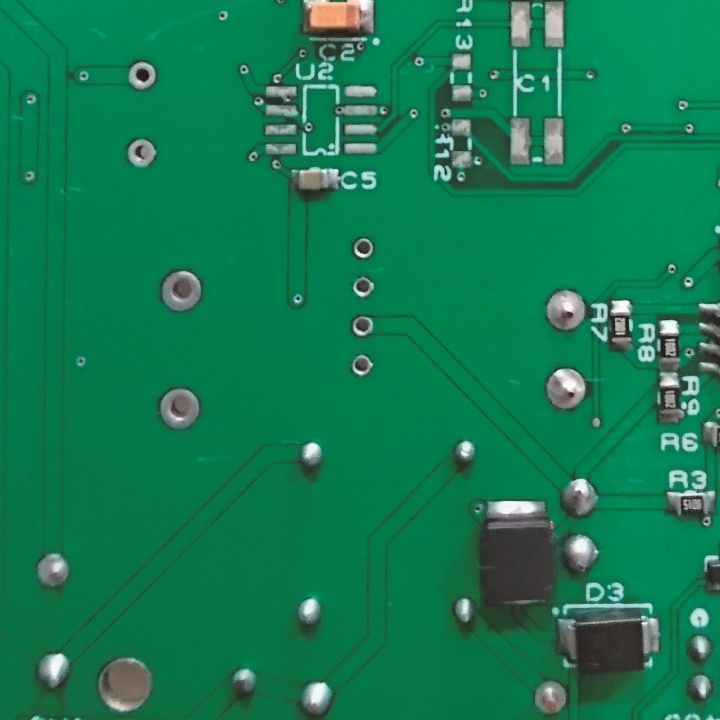F: (156, 267, 204, 315), (156, 386, 202, 435), (544, 365, 586, 415), (542, 286, 587, 332), (528, 678, 573, 718), (33, 550, 70, 592), (126, 58, 158, 97), (123, 135, 159, 169), (350, 235, 376, 262), (347, 351, 375, 376), (350, 313, 376, 339), (350, 275, 376, 299)
